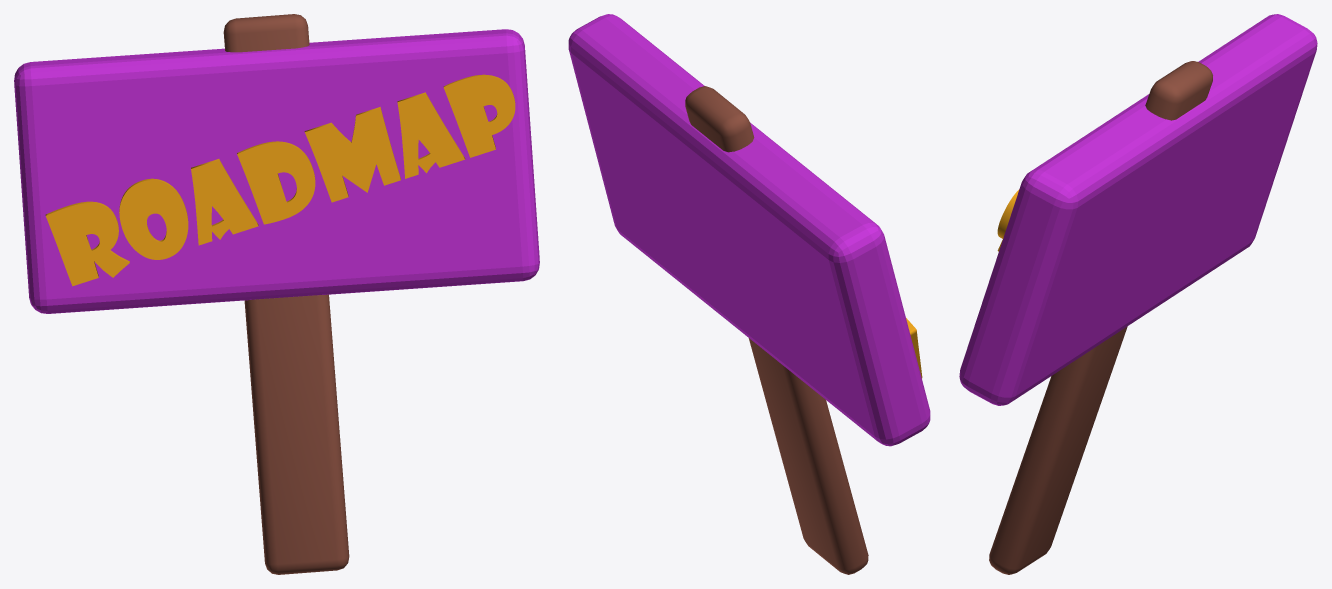
Rendered from menu_sign3.glb.
3 renders of one model, left to right at view 1: azimuth 30°, elevation 25°; view 2: azimuth 150°, elevation 25°; view 3: azimuth 270°, elevation 25°, orthographic. The views are drawn at different scales.
Visible parts, largest first — view 1: Sign.004, Text.005, Sign stick.004; view 2: Sign.004, Sign stick.004; view 3: Sign.004, Sign stick.004.
Boxes of the visible parts, box(x1,y1,x2,y2) form: Sign.004: box(14, 29, 539, 313); Text.005: box(45, 74, 515, 286); Sign stick.004: box(223, 14, 349, 574); Sign.004: box(568, 14, 930, 446); Sign stick.004: box(685, 86, 868, 574); Sign.004: box(959, 14, 1317, 405); Sign stick.004: box(989, 61, 1212, 574).
Size of the model in its own units: 1.34 by 1.51 by 0.954.
